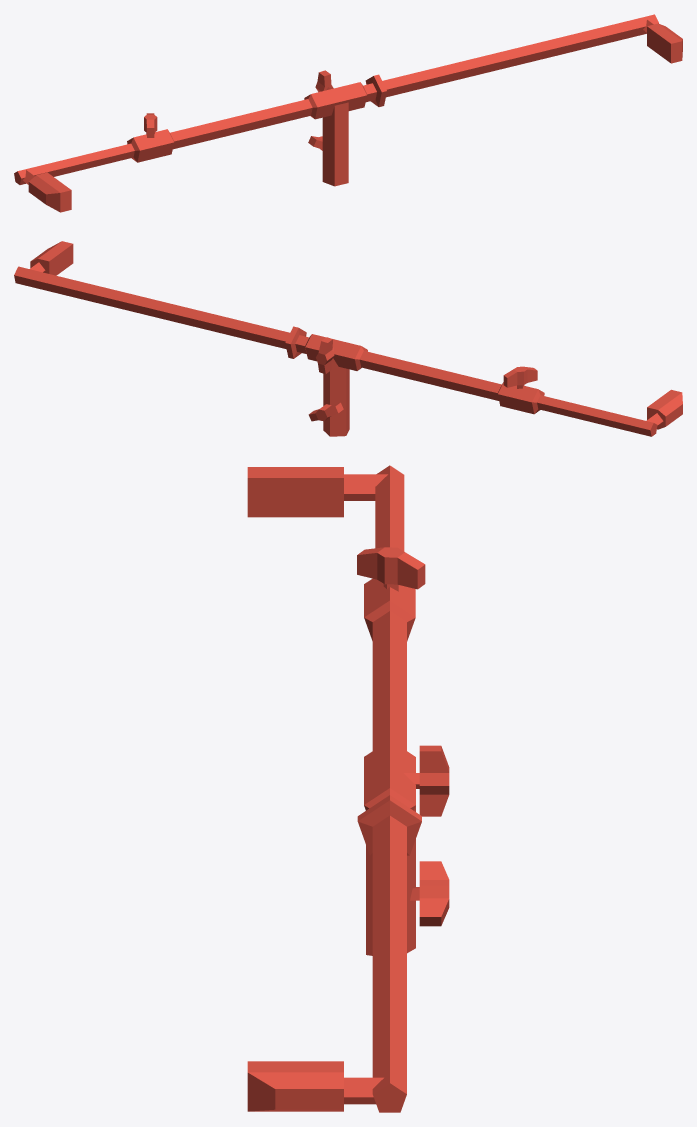
File: SM_Light_Reflector_Stand.fbx
3 views of the same model, one above another, from view 1: azimuth 30°, elevation 25°; view 2: azimuth 150°, elevation 25°; view 3: azimuth 270°, elevation 25° (orthographic). The views are drawn at different scales.
Parts seen in each view (by area): view 1: SM_Light_Reflector_Stand; view 2: SM_Light_Reflector_Stand; view 3: SM_Light_Reflector_Stand.
Part boxes in pixels (x1,y1,x2,y2): SM_Light_Reflector_Stand: [14, 14, 682, 212]; SM_Light_Reflector_Stand: [14, 241, 682, 436]; SM_Light_Reflector_Stand: [247, 465, 449, 1112].
Size of the model in its own units: 15.46 by 113 by 18.25.
